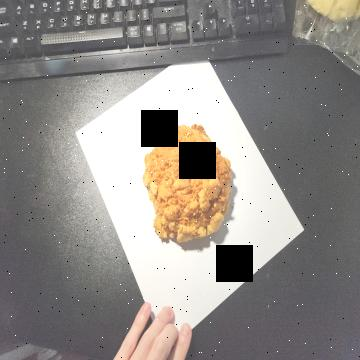soboru_bread: (142, 123, 233, 246)
